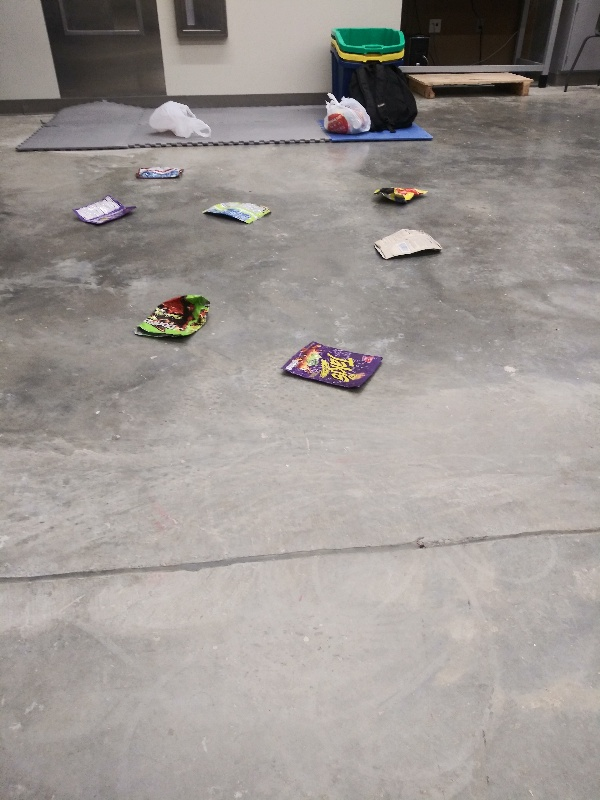bag: (276, 338, 389, 394), (128, 292, 214, 344), (368, 225, 448, 263), (68, 194, 142, 228), (197, 199, 277, 226), (369, 183, 430, 206), (132, 162, 192, 183)
